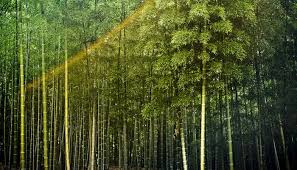bamboo: (3, 4, 296, 166)
